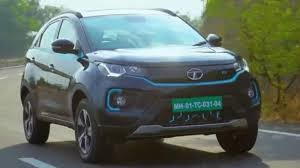Tata Nexon: (19, 8, 261, 163)
